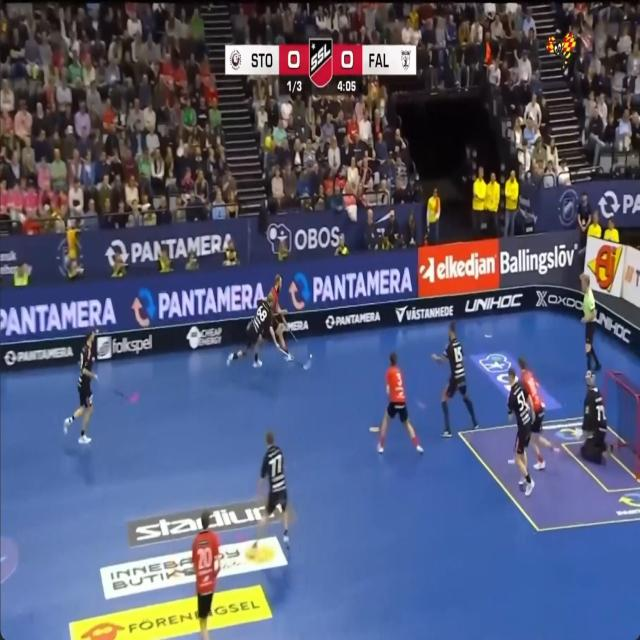player: (431, 323, 478, 436), (518, 358, 559, 469), (377, 352, 422, 453), (253, 431, 289, 549), (227, 293, 278, 367), (64, 331, 97, 444), (192, 510, 219, 639), (507, 368, 534, 495), (581, 371, 612, 463), (581, 273, 601, 370), (270, 274, 292, 360)
stick: (278, 345, 312, 369), (113, 390, 138, 403), (287, 323, 298, 341), (113, 389, 129, 399)
